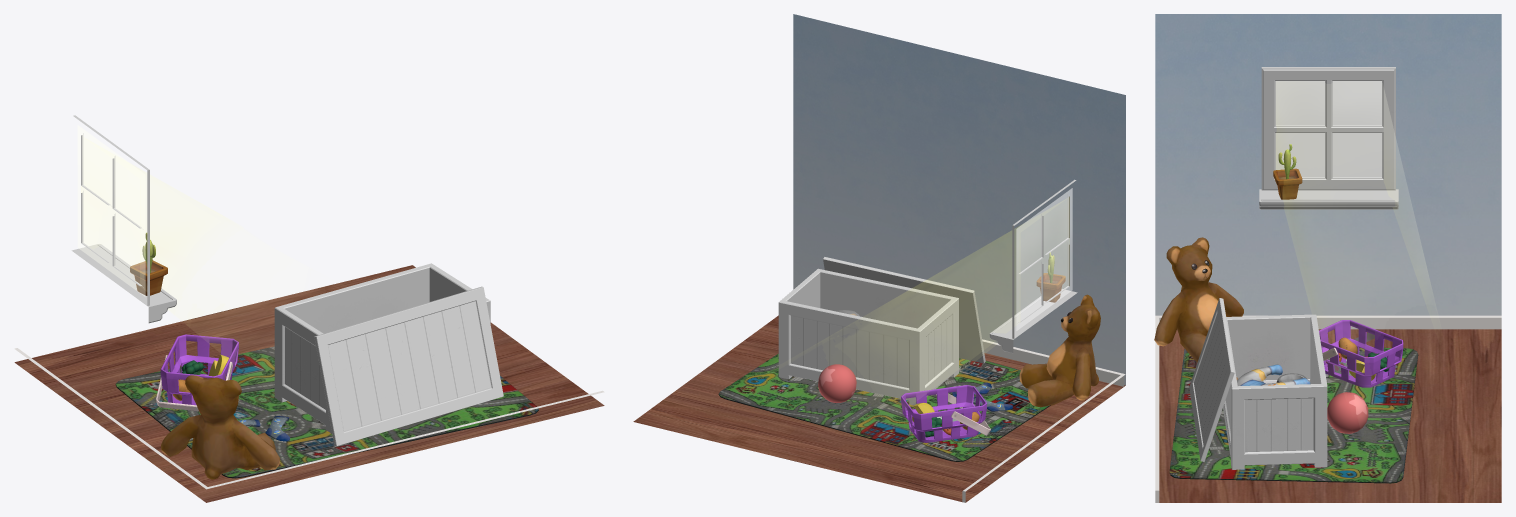
The model's file is toy_box.glb.
3 renders of one model, left to right at view 1: azimuth 30°, elevation 25°; view 2: azimuth 150°, elevation 25°; view 3: azimuth 270°, elevation 25°, orthographic. The views are drawn at different scales.
Visible parts, largest first — view 1: Floor, Box_Lid, Rug, Box_Base, WindowLight, Bear, Lightbeam2, Basket1, WindowSil, WindowFrame, PottedPlant, WallTrim1 (+1 smaller); view 2: Wall1, Floor, Box_Base, Rug, Lightbeam2, WindowLight, Bear, Box_Lid, Basket1, WindowSil, WindowFrame, Ball1 (+3 smaller); view 3: Wall2, Floor, WindowFrame, Box_Base, Rug, WindowLight, Bear, Box_Lid, Basket1, WindowSil, WallTrim2, Lightbeam2 (+4 smaller).
Part boxes in pixels (x1,y1,x2,y2): Floor: [14, 265, 604, 502]; Box_Lid: [314, 286, 503, 446]; Rug: [115, 346, 538, 478]; Box_Base: [274, 263, 490, 433]; WindowLight: [77, 125, 145, 296]; Bear: [161, 375, 280, 479]; Lightbeam2: [136, 167, 222, 290]; Basket1: [160, 334, 238, 405]; WindowSil: [71, 244, 176, 323]; WindowFrame: [73, 115, 149, 305]; PottedPlant: [130, 232, 167, 295]; WallTrim1: [206, 390, 604, 489]; Wall1: [793, 14, 1125, 385]; Floor: [633, 315, 1125, 502]; Box_Base: [778, 268, 958, 405]; Rug: [718, 353, 1050, 461]; Lightbeam2: [897, 226, 1019, 363]; WindowLight: [1016, 188, 1072, 330]; Bear: [1019, 294, 1100, 406]; Box_Lid: [823, 257, 985, 363]; Basket1: [901, 385, 987, 442]; WindowSil: [989, 289, 1077, 353]; WindowFrame: [1012, 179, 1076, 338]; Ball1: [818, 364, 856, 402]; Wall2: [1155, 14, 1501, 315]; Floor: [1159, 329, 1501, 502]; WindowFrame: [1261, 67, 1395, 190]; Box_Base: [1223, 314, 1327, 469]; Rug: [1169, 347, 1418, 483]; WindowLight: [1275, 81, 1381, 176]; Bear: [1154, 237, 1243, 362]; Box_Lid: [1189, 298, 1234, 461]; Basket1: [1319, 320, 1403, 387]; WindowSil: [1259, 189, 1398, 209]; WallTrim2: [1155, 315, 1501, 329]; Lightbeam2: [1384, 91, 1429, 287].
Bounding box in the file's own units: 217 × 184 × 182.
5 materials, 5 textured.
